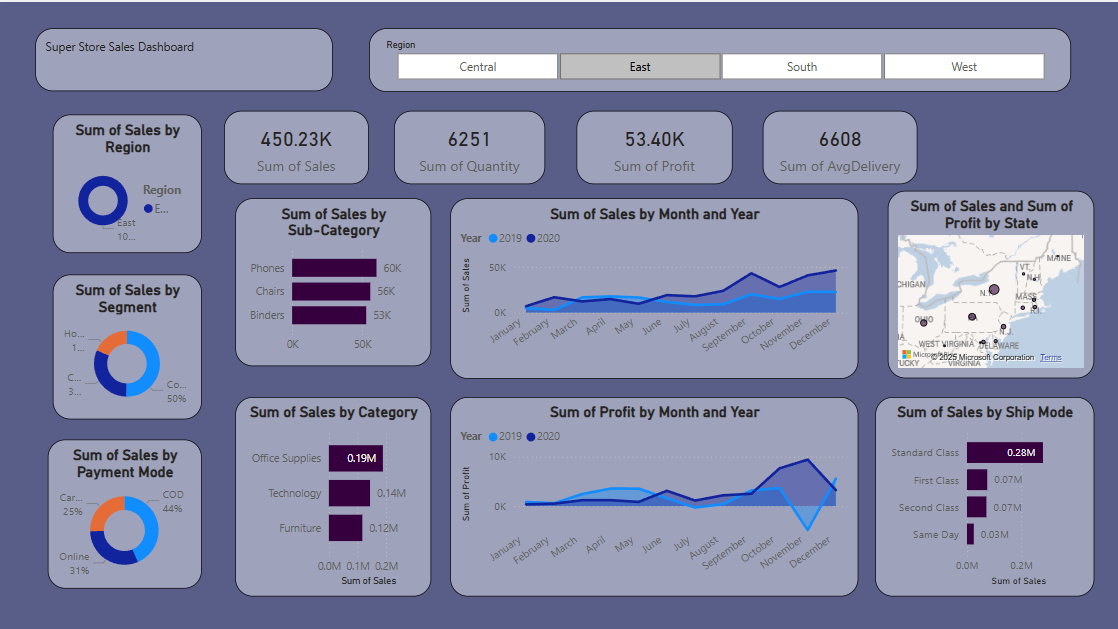

The page's visual inventory and layout, read from the dashboard file:
{"tool":"powerbi","page":{"name":"Page 1","canvas":[1280,720],"ordinal":0},"visuals":[{"type":"clusteredBarChart","fields":{"Category":["SuperStore_Sales_Dataset.Category"],"Y":["Sum(SuperStore_Sales_Dataset.Sales)"]},"box":[270,452,224,228],"z":0},{"type":"clusteredBarChart","fields":{"Category":["SuperStore_Sales_Dataset.Sub-Category"],"Y":["Sum(SuperStore_Sales_Dataset.Sales)"]},"box":[270,224,224,192],"z":1000},{"type":"clusteredBarChart","fields":{"Category":["SuperStore_Sales_Dataset.Ship Mode"],"Y":["Sum(SuperStore_Sales_Dataset.Sales)"]},"box":[1002,452,250,228],"z":2000},{"type":"areaChart","fields":{"Y":["Sum(SuperStore_Sales_Dataset.Sales)"],"Category":["SuperStore_Sales_Dataset.Order Date.Variation.Date Hierarchy.Month","SuperStore_Sales_Dataset.Order Date.Variation.Date Hierarchy.Day"],"Series":["SuperStore_Sales_Dataset.Order Date.Variation.Date Hierarchy.Year"]},"box":[516,224,466,206],"z":3000},{"type":"areaChart","fields":{"Category":["SuperStore_Sales_Dataset.Order Date.Variation.Date Hierarchy.Month","SuperStore_Sales_Dataset.Order Date.Variation.Date Hierarchy.Day"],"Series":["SuperStore_Sales_Dataset.Order Date.Variation.Date Hierarchy.Year"],"Y":["Sum(SuperStore_Sales_Dataset.Profit)"]},"box":[516,452,466,228],"z":4000},{"type":"map","fields":{"Category":["SuperStore_Sales_Dataset.State"],"Size":["Sum(SuperStore_Sales_Dataset.Sales)"]},"box":[1016,216,236,214],"z":5000},{"type":"donutChart","fields":{"Category":["SuperStore_Sales_Dataset.Segment"],"Y":["Sum(SuperStore_Sales_Dataset.Sales)"]},"box":[61.4,311.4,170,165.7],"z":6000},{"type":"donutChart","fields":{"Category":["SuperStore_Sales_Dataset.Payment Mode"],"Y":["Sum(SuperStore_Sales_Dataset.Sales)"]},"box":[55.7,500,175.7,170],"z":7000},{"type":"slicer","fields":{"Values":["SuperStore_Sales_Dataset.Region"]},"box":[422.5,30,802.5,72.5],"z":8000},{"type":"textbox","box":[42,30,340,72],"z":9000},{"type":"card","fields":{"Values":["Sum(SuperStore_Sales_Dataset.Sales)"]},"box":[257.1,124.3,165.7,84.3],"z":10000},{"type":"card","fields":{"Values":["Sum(SuperStore_Sales_Dataset.Quantity)"]},"box":[451.4,124.3,172.9,84.3],"z":11000},{"type":"card","fields":{"Values":["Avg(SuperStore_Sales_Dataset.Profit)"]},"box":[660,124.3,178.6,84.3],"z":12000},{"type":"card","fields":{"Values":["Sum(SuperStore_Sales_Dataset.AvgDelivery)"]},"box":[872.9,124.3,177.1,84.3],"z":13000},{"type":"donutChart","fields":{"Category":["SuperStore_Sales_Dataset.Region"],"Y":["Sum(SuperStore_Sales_Dataset.Sales)"]},"box":[61.4,128.6,170,158.6],"z":14000}]}

Visuals, with their boxes in screenshot pixels (x1, y1, x2, y2), scaled from the page's 1280x720 canvas onto the 1118x629 screenshot:
clusteredBarChart - SuperStore_Sales_Dataset.Category x Sum(SuperStore_Sales_Dataset.Sales): [236, 395, 431, 594]
clusteredBarChart - SuperStore_Sales_Dataset.Sub-Category x Sum(SuperStore_Sales_Dataset.Sales): [236, 196, 431, 363]
clusteredBarChart - SuperStore_Sales_Dataset.Ship Mode x Sum(SuperStore_Sales_Dataset.Sales): [875, 395, 1094, 594]
areaChart - Sum(SuperStore_Sales_Dataset.Sales) x SuperStore_Sales_Dataset.Order Date.Variation.Date Hierarchy.Month: [451, 196, 858, 376]
areaChart - SuperStore_Sales_Dataset.Order Date.Variation.Date Hierarchy.Month x SuperStore_Sales_Dataset.Order Date.Variation.Date Hierarchy.Day: [451, 395, 858, 594]
map - SuperStore_Sales_Dataset.State x Sum(SuperStore_Sales_Dataset.Sales): [887, 189, 1094, 376]
donutChart - SuperStore_Sales_Dataset.Segment x Sum(SuperStore_Sales_Dataset.Sales): [54, 272, 202, 417]
donutChart - SuperStore_Sales_Dataset.Payment Mode x Sum(SuperStore_Sales_Dataset.Sales): [49, 437, 202, 585]
slicer - SuperStore_Sales_Dataset.Region: [369, 26, 1070, 90]
textbox: [37, 26, 334, 89]
card - Sum(SuperStore_Sales_Dataset.Sales): [225, 109, 369, 182]
card - Sum(SuperStore_Sales_Dataset.Quantity): [394, 109, 545, 182]
card - Avg(SuperStore_Sales_Dataset.Profit): [576, 109, 732, 182]
card - Sum(SuperStore_Sales_Dataset.AvgDelivery): [762, 109, 917, 182]
donutChart - SuperStore_Sales_Dataset.Region x Sum(SuperStore_Sales_Dataset.Sales): [54, 112, 202, 251]
